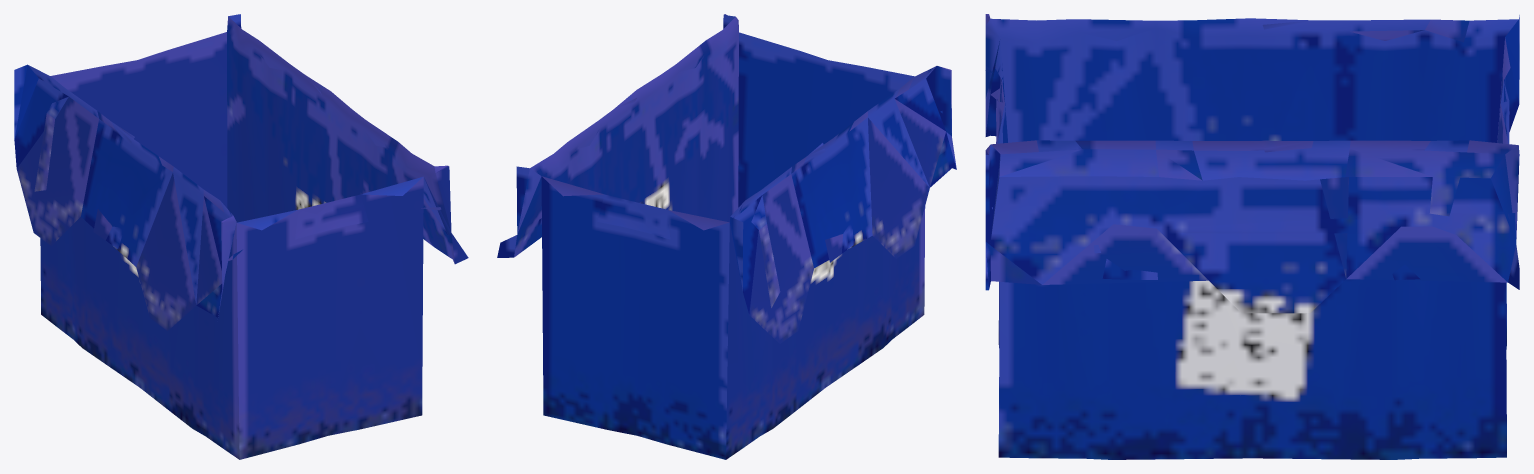
The model's file is industrial_pastic_container.glb.
The picture shows the model from 3 angles, left to right: view 1: azimuth 30°, elevation 25°; view 2: azimuth 150°, elevation 25°; view 3: azimuth 270°, elevation 25°; orthographic projection. The views are drawn at different scales.
Visible parts, largest first — view 1: mesh; view 2: mesh; view 3: mesh.
Boxes of the visible parts, left/top/right/bottom form: mesh: left=14, top=14, right=468, bottom=459; mesh: left=497, top=14, right=956, bottom=459; mesh: left=985, top=14, right=1519, bottom=459.
Size of the model in its own units: 0.4502 by 0.4231 by 0.6371.
1 material, 1 textured.
